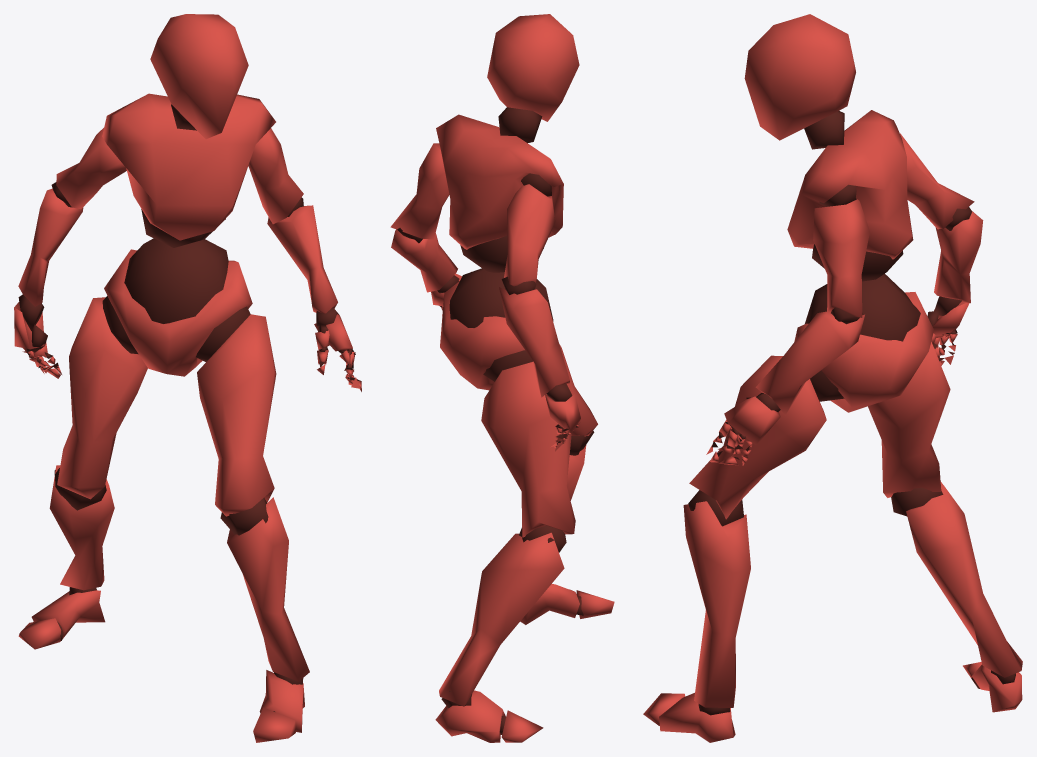
3 views of the same model, side by side, from view 1: azimuth 30°, elevation 25°; view 2: azimuth 150°, elevation 25°; view 3: azimuth 270°, elevation 25° (orthographic). The views are drawn at different scales.
Visible parts, largest first — view 1: Beta_Surface; view 2: Beta_Surface; view 3: Beta_Surface.
Boxes of the visible parts, x1=… form: Beta_Surface: x1=14, y1=14, x2=361, y2=742; Beta_Surface: x1=390, y1=14, x2=614, y2=742; Beta_Surface: x1=643, y1=14, x2=1022, y2=742.
Size of the model in its own units: 5.44 by 14.6 by 7.2.
